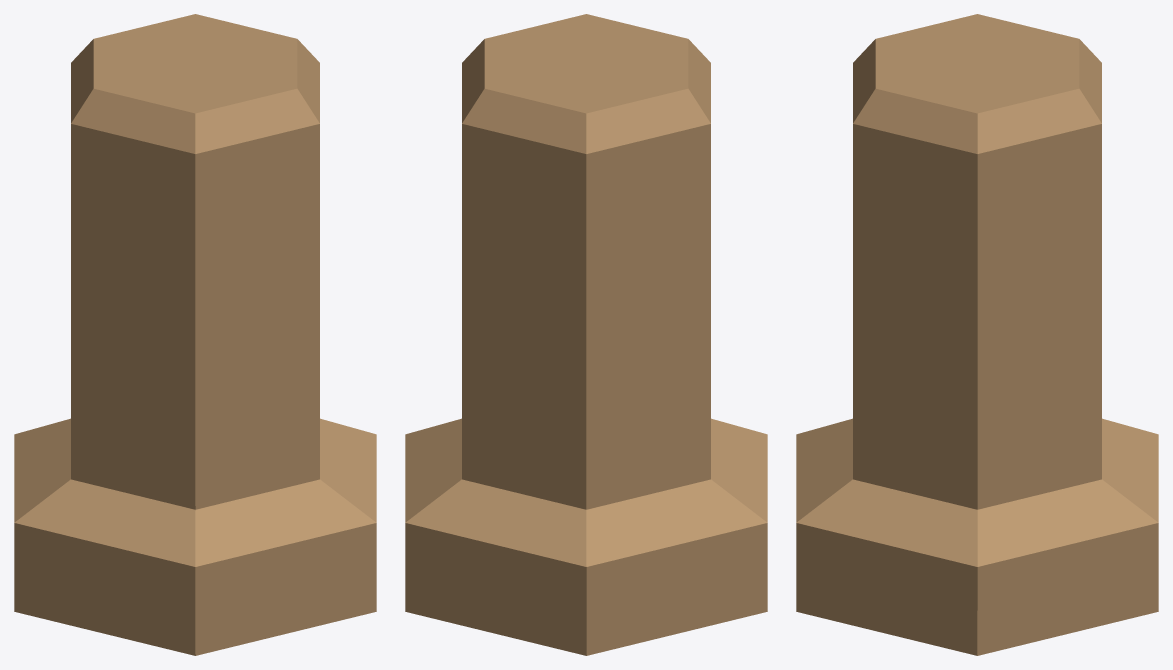
File: prop-bagpipe-stock-blank.fbx
3 views of the same model, side by side, from view 1: azimuth 30°, elevation 25°; view 2: azimuth 150°, elevation 25°; view 3: azimuth 270°, elevation 25° (orthographic).
Parts seen in each view (by area): view 1: prop-bagpipe-stock-blank; view 2: prop-bagpipe-stock-blank; view 3: prop-bagpipe-stock-blank.
Part boxes in pixels (left/top/right/bottom): prop-bagpipe-stock-blank: left=14, top=14, right=376, bottom=655; prop-bagpipe-stock-blank: left=405, top=14, right=767, bottom=655; prop-bagpipe-stock-blank: left=796, top=14, right=1158, bottom=655.
Bounding box in the file's own units: 6.4 × 8.5 × 5.54.
